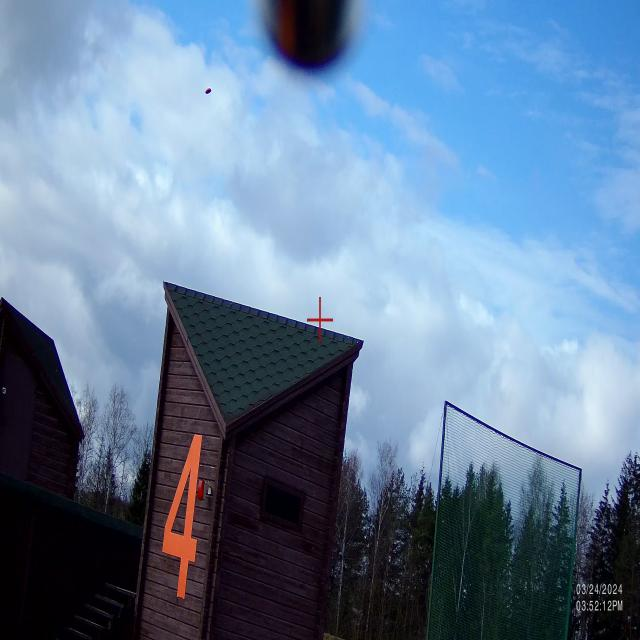entire: (198, 82, 220, 100)
